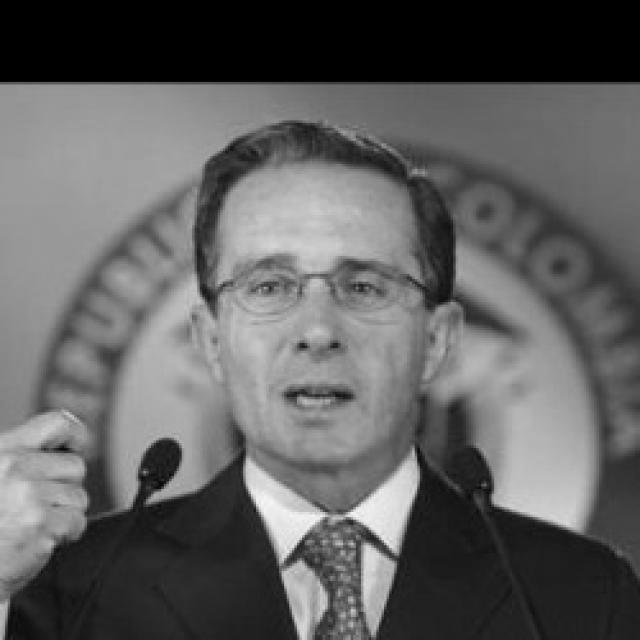real: (184, 114, 482, 474), (234, 240, 405, 318)
